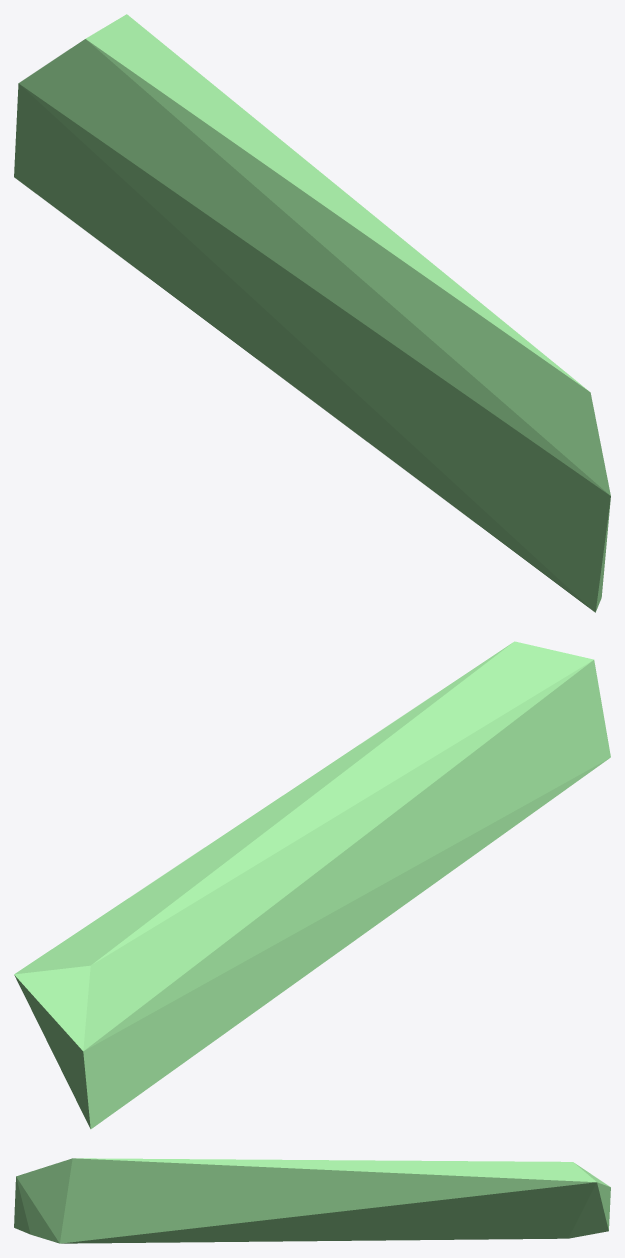
File: UMIRobot_UMIRobot_link_3_convex_coll_25.dae
3 renders of one model, top to bottom at view 1: azimuth 30°, elevation 25°; view 2: azimuth 150°, elevation 25°; view 3: azimuth 270°, elevation 25°, orthographic. The views are drawn at different scales.
Visible parts, largest first — view 1: node; view 2: node; view 3: node.
Boxes of the visible parts, x1,y1,x2,y2 form: node: (14, 14, 610, 612); node: (14, 641, 610, 1129); node: (14, 1158, 610, 1243).
Size of the model in its own units: 0.00443 by 0.00641 by 0.0405.
